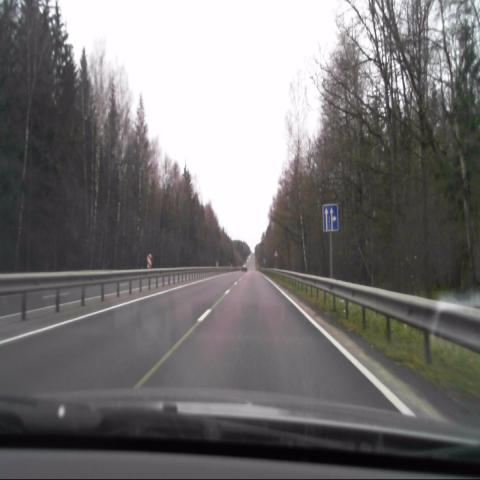5_15_2_2: (322, 203, 339, 232)
